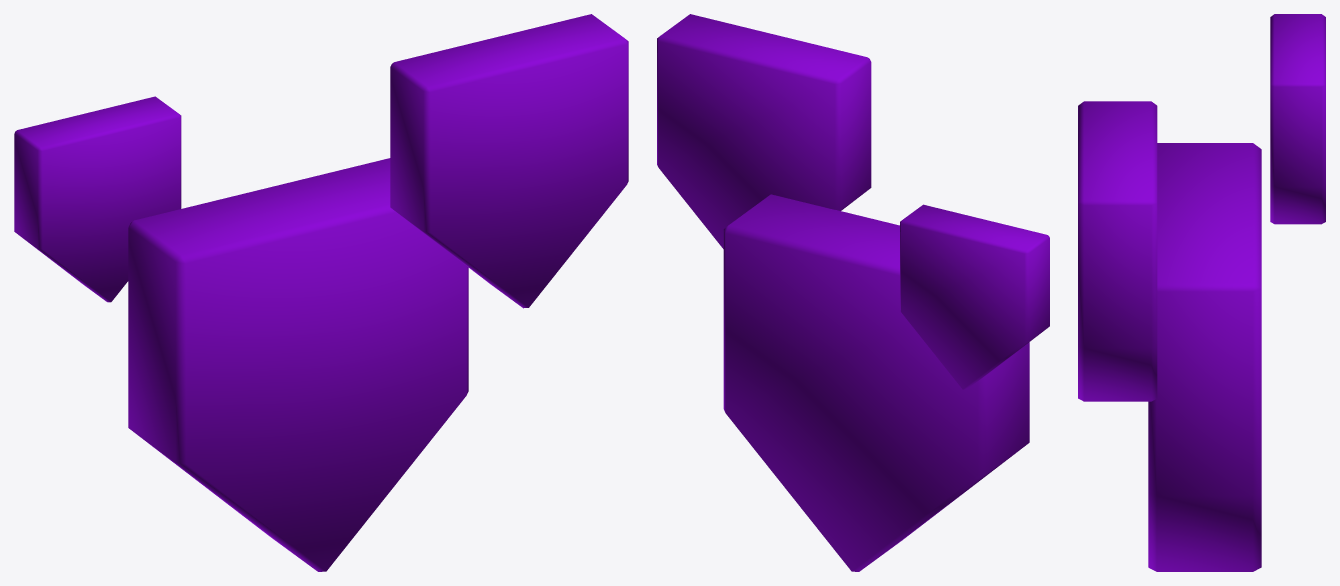
Rendered from Item_Shield_B.fbx.
3 views of the same model, side by side, from view 1: azimuth 30°, elevation 25°; view 2: azimuth 150°, elevation 25°; view 3: azimuth 270°, elevation 25° (orthographic). The views are drawn at different scales.
Parts seen in each view (by area): view 1: heart; view 2: heart; view 3: heart.
Part boxes in pixels (box(x1,y1,x2,y2)): heart: box(14, 14, 628, 571); heart: box(657, 14, 1049, 571); heart: box(1078, 14, 1325, 571).
Bounding box in the file's own units: 108 × 102 × 45.53.
